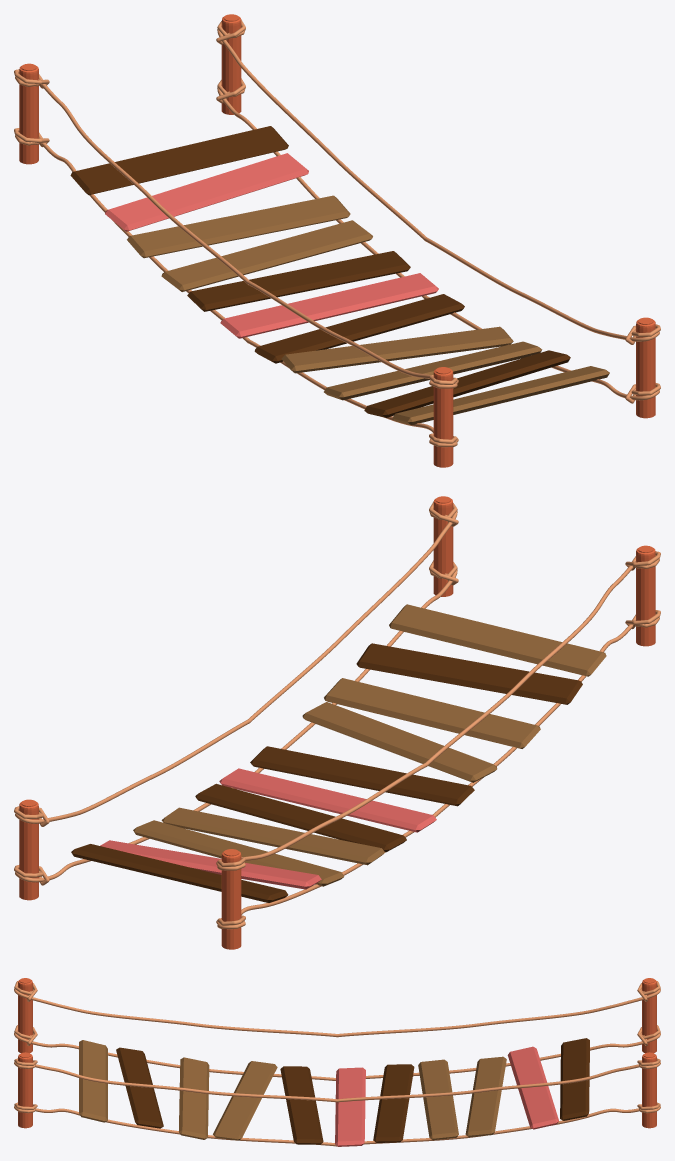
File: puente.fbx
The picture shows the model from 3 angles, top to bottom: view 1: azimuth 30°, elevation 25°; view 2: azimuth 150°, elevation 25°; view 3: azimuth 270°, elevation 25°; orthographic projection. The views are drawn at different scales.
Parts seen in each view (by area): view 1: Cylinder, BezierCurve, Cube.057, Cube.055, Cube.056, Cube.054, Cube.053, Cube.052, Cube.050, Cube.051, Cube.049, BezierCurve.001 (+2 smaller); view 2: Cylinder, BezierCurve, Cube.047, Cube.048, Cube.049, Cube.051, Cube.050, Cube.052, Cube.053, Cube.054, BezierCurve.001, Cube.057 (+2 smaller); view 3: BezierCurve, Cylinder, BezierCurve.001, Cube.056, Cube.050, Cube.054, Cube.052, Cube.053, Cube.051, Cube.057, Cube.049, Cube.055 (+2 smaller).
Part boxes in pixels (x1,y1,x2,y2): Cylinder: [19, 14, 655, 467]; BezierCurve: [14, 20, 660, 388]; Cube.057: [70, 126, 288, 194]; Cube.055: [127, 195, 350, 258]; Cube.056: [105, 153, 308, 231]; Cube.054: [161, 220, 372, 291]; Cube.053: [187, 251, 410, 311]; Cube.052: [220, 273, 438, 338]; Cube.050: [281, 326, 513, 373]; Cube.051: [254, 294, 464, 363]; Cube.049: [324, 341, 542, 400]; BezierCurve.001: [14, 78, 660, 447]; Cylinder: [19, 496, 655, 949]; BezierCurve: [14, 502, 660, 870]; Cube.047: [389, 604, 606, 676]; Cube.048: [356, 643, 582, 704]; Cube.049: [324, 678, 540, 748]; Cube.051: [250, 746, 474, 806]; Cube.050: [302, 702, 497, 782]; Cube.052: [219, 768, 436, 832]; Cube.053: [195, 783, 406, 852]; Cube.054: [161, 807, 385, 865]; BezierCurve.001: [14, 560, 660, 929]; Cube.057: [71, 844, 288, 902]; BezierCurve: [14, 981, 660, 1102]; Cylinder: [18, 978, 656, 1128]; BezierCurve.001: [14, 1025, 660, 1146]; Cube.056: [507, 1046, 558, 1129]; Cube.050: [213, 1061, 277, 1140]; Cube.054: [418, 1059, 458, 1140]; Cube.052: [335, 1067, 365, 1146]; Cube.053: [373, 1064, 414, 1142]; Cube.051: [280, 1066, 323, 1144]; Cube.057: [560, 1038, 589, 1120]; Cube.049: [179, 1057, 209, 1139]; Cube.055: [465, 1056, 506, 1137].
Size of the model in its own units: 5.75 by 3.09 by 18.86.
